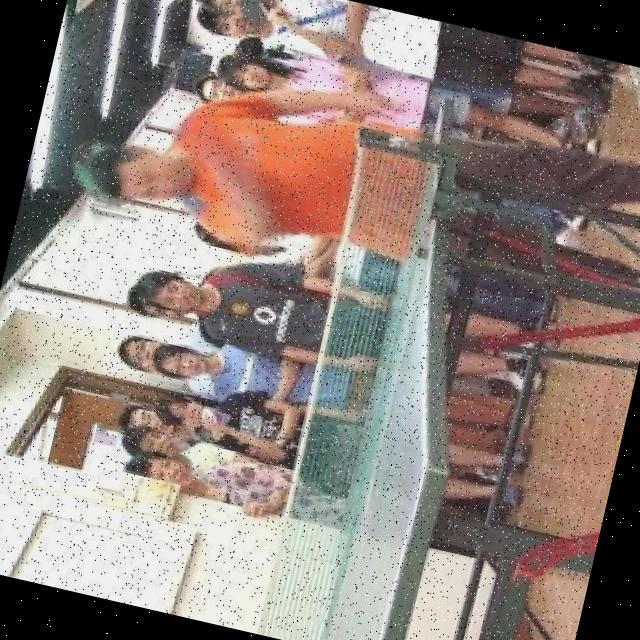ping-pong-ball: (225, 295, 252, 314)
